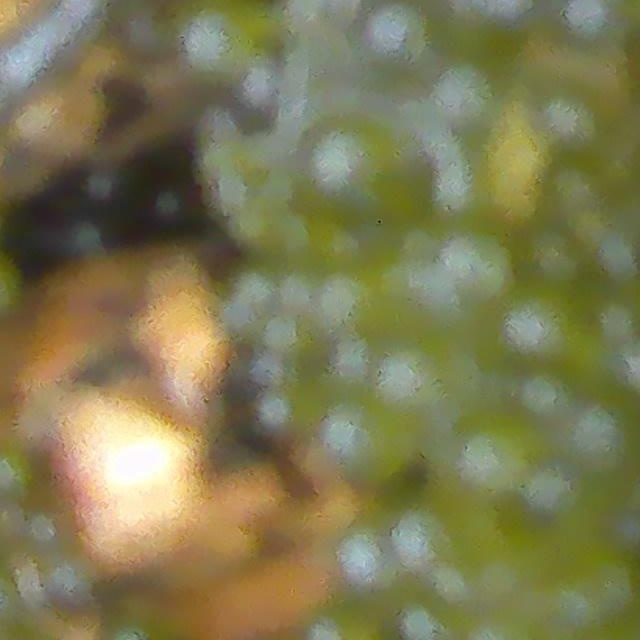SeaGrape: (449, 404, 548, 504), (497, 276, 590, 369), (557, 395, 640, 482), (435, 223, 520, 307), (337, 403, 422, 487), (364, 0, 433, 69), (184, 5, 251, 75), (525, 224, 589, 290), (558, 0, 632, 50), (304, 598, 391, 640), (515, 365, 574, 422)
